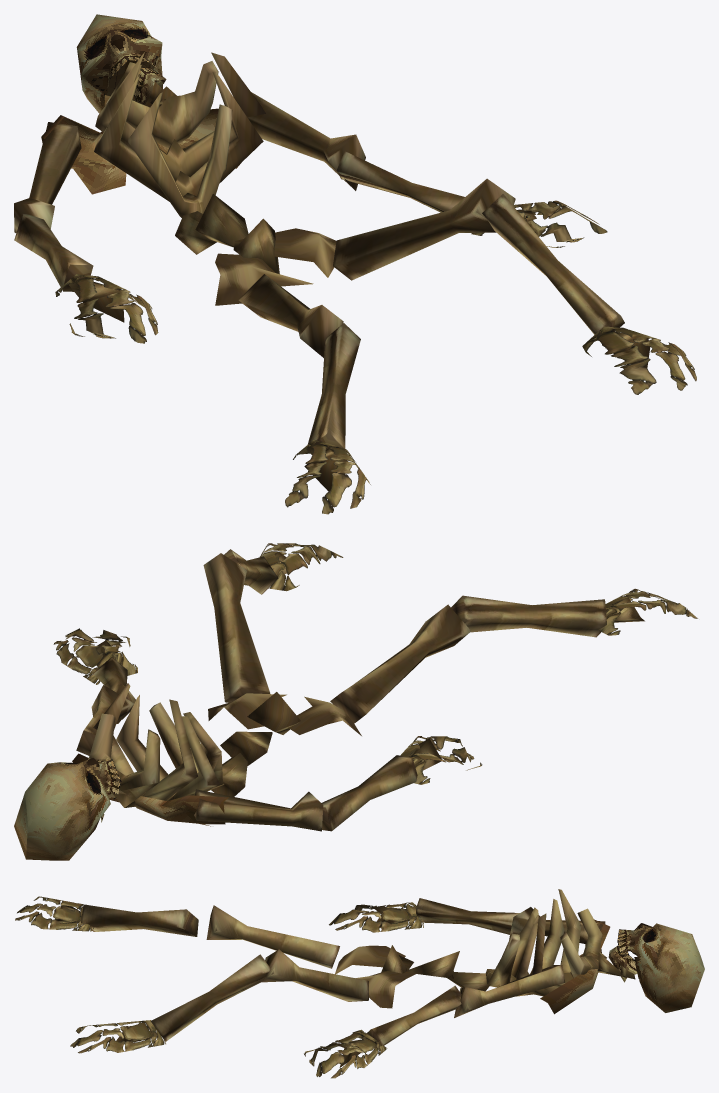
File: SkeletonLaying.fbx
3 renders of one model, top to bottom at view 1: azimuth 30°, elevation 25°; view 2: azimuth 150°, elevation 25°; view 3: azimuth 270°, elevation 25°, orthographic. The views are drawn at different scales.
Visible parts, largest first — view 1: 0_0, 1_0, 2_0; view 2: 0_0, 2_0, 1_0; view 3: 0_0, 2_0, 1_0.
Boxes of the visible parts, box(x1,y1,x2,y2) form: 0_0: box(14, 52, 650, 491); 1_0: box(55, 200, 696, 514); 2_0: box(41, 14, 240, 194); 0_0: box(76, 549, 644, 831); 2_0: box(14, 753, 228, 860); 1_0: box(53, 543, 697, 784); 0_0: box(50, 889, 635, 1067); 2_0: box(540, 919, 704, 1014); 1_0: box(15, 896, 423, 1078).
Size of the model in its own units: 0.5137 by 0.1466 by 0.8204.
Materials: 3 (3 with a texture image).
